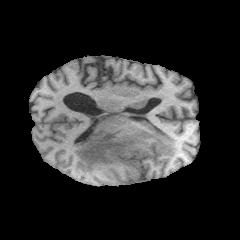glioma: (74, 123, 178, 180)
